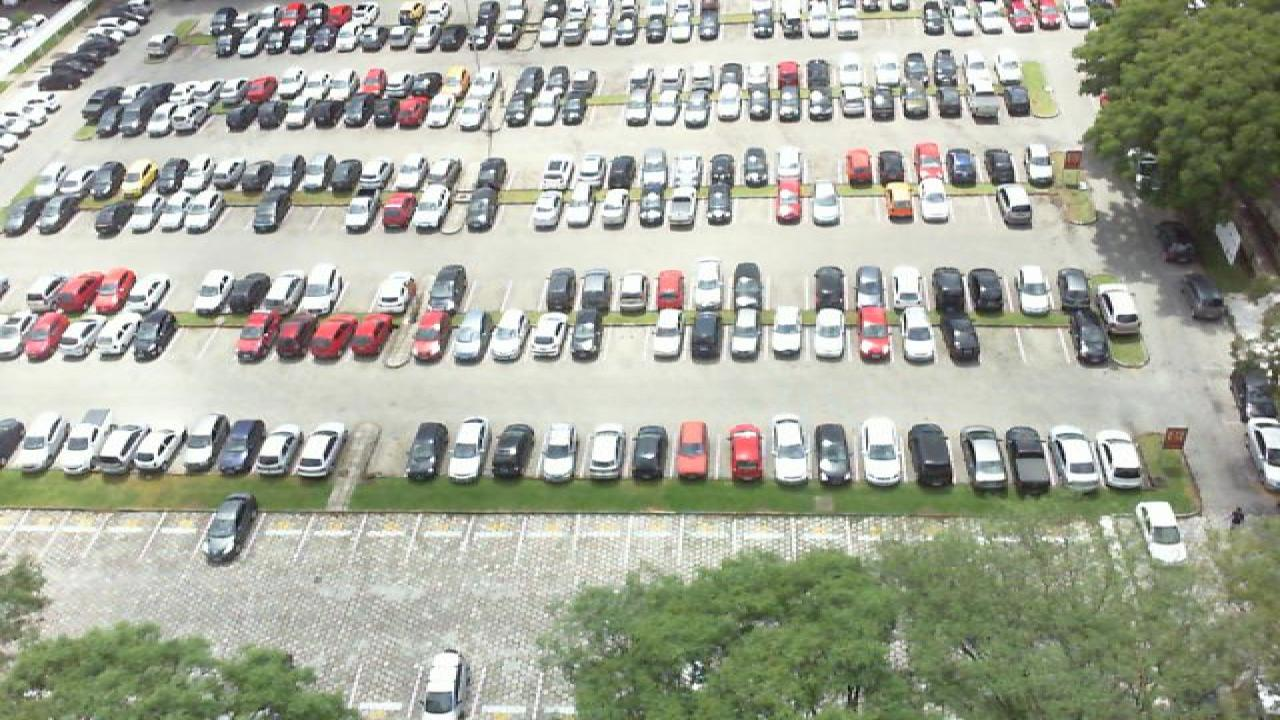Car: (200, 493, 256, 561), (416, 648, 468, 719), (48, 408, 110, 467), (1136, 499, 1190, 564), (12, 415, 74, 469), (860, 416, 906, 486), (1006, 425, 1054, 492), (1096, 428, 1146, 491), (1050, 428, 1100, 490), (960, 426, 1010, 488), (214, 418, 268, 472), (908, 424, 954, 486), (88, 422, 148, 469), (444, 415, 488, 479), (178, 413, 228, 469), (130, 423, 188, 470), (770, 416, 810, 483), (1244, 416, 1280, 490), (292, 424, 344, 475), (254, 424, 308, 473), (490, 423, 534, 483), (62, 160, 120, 204), (1100, 284, 1146, 338), (406, 421, 448, 480), (812, 424, 852, 485), (804, 305, 848, 360), (22, 312, 74, 358), (48, 272, 102, 315), (726, 423, 766, 481), (674, 420, 712, 481), (582, 426, 624, 481), (132, 310, 178, 360), (300, 264, 344, 315), (854, 305, 894, 361), (10, 275, 64, 316), (60, 315, 110, 359), (764, 306, 804, 361), (540, 423, 578, 480), (726, 305, 766, 359), (896, 306, 936, 360), (940, 308, 980, 362), (234, 309, 278, 358), (90, 268, 136, 314), (270, 312, 316, 358), (306, 312, 352, 358), (344, 312, 390, 358), (192, 274, 240, 318), (646, 309, 686, 361), (96, 314, 142, 359), (428, 263, 468, 314), (624, 426, 660, 481), (690, 257, 726, 312), (230, 271, 274, 316), (372, 271, 418, 314), (1016, 263, 1054, 314), (448, 315, 490, 361), (526, 310, 564, 360), (566, 310, 604, 360), (124, 277, 172, 316), (112, 192, 156, 234), (612, 269, 652, 315), (116, 84, 162, 124), (408, 312, 446, 360), (488, 313, 526, 361), (576, 265, 612, 315), (996, 184, 1038, 226), (890, 264, 928, 310), (966, 266, 1002, 314), (540, 267, 576, 315), (28, 194, 70, 235), (84, 88, 130, 125), (688, 311, 722, 361), (412, 189, 450, 233), (1060, 265, 1094, 314), (342, 191, 382, 232), (376, 189, 414, 232), (814, 264, 848, 312), (884, 179, 920, 224), (806, 180, 842, 225), (732, 263, 764, 313), (270, 276, 310, 316), (182, 192, 222, 232), (148, 156, 190, 194), (214, 156, 256, 194), (150, 88, 192, 126), (110, 158, 154, 194), (852, 264, 886, 310), (598, 184, 632, 230), (150, 192, 188, 233), (914, 140, 946, 188), (652, 269, 686, 314), (0, 195, 38, 235), (564, 187, 598, 231), (180, 87, 220, 124), (934, 266, 966, 312), (468, 189, 502, 232), (248, 156, 286, 194), (182, 156, 222, 192), (774, 143, 806, 188), (700, 184, 734, 226), (224, 93, 266, 127), (636, 185, 668, 229), (532, 187, 564, 231), (280, 156, 316, 194), (948, 148, 982, 188), (256, 94, 296, 128), (842, 146, 874, 188), (984, 148, 1018, 187), (670, 184, 700, 228), (640, 148, 670, 192), (432, 154, 464, 195), (704, 149, 736, 190), (540, 154, 576, 190), (964, 84, 1000, 120), (314, 94, 352, 128), (372, 155, 404, 195), (402, 154, 434, 194), (878, 147, 910, 187), (1022, 147, 1054, 187), (286, 95, 326, 127), (738, 85, 770, 125), (774, 180, 802, 225), (574, 153, 606, 192), (606, 153, 638, 192), (706, 87, 738, 126), (136, 66, 176, 97), (740, 147, 770, 188), (396, 94, 432, 128), (424, 92, 458, 128), (998, 83, 1032, 119), (308, 153, 338, 193), (476, 156, 506, 196), (672, 150, 702, 190), (836, 84, 866, 124), (622, 90, 654, 127), (372, 93, 406, 127), (304, 66, 338, 100), (344, 95, 380, 127), (652, 91, 684, 127), (932, 48, 960, 89), (804, 86, 834, 124), (866, 87, 898, 122), (930, 86, 962, 121), (238, 74, 278, 102), (506, 91, 536, 128), (336, 156, 366, 192), (560, 92, 590, 128), (680, 90, 710, 126), (900, 86, 930, 122), (534, 92, 564, 127), (476, 94, 506, 128), (440, 65, 470, 99), (902, 55, 930, 91), (204, 73, 244, 98), (172, 70, 210, 96), (772, 89, 800, 124), (360, 66, 390, 98), (412, 68, 444, 98), (488, 65, 516, 99), (516, 65, 544, 99), (276, 71, 308, 100), (384, 70, 416, 99), (570, 65, 598, 98), (630, 64, 658, 97), (658, 64, 686, 96), (992, 60, 1024, 88), (776, 58, 802, 92), (872, 57, 898, 91), (96, 77, 136, 99), (332, 71, 362, 100), (688, 63, 714, 96), (718, 64, 746, 94), (748, 61, 774, 93), (808, 60, 834, 91), (544, 65, 568, 98), (962, 62, 990, 89), (840, 62, 866, 91)
